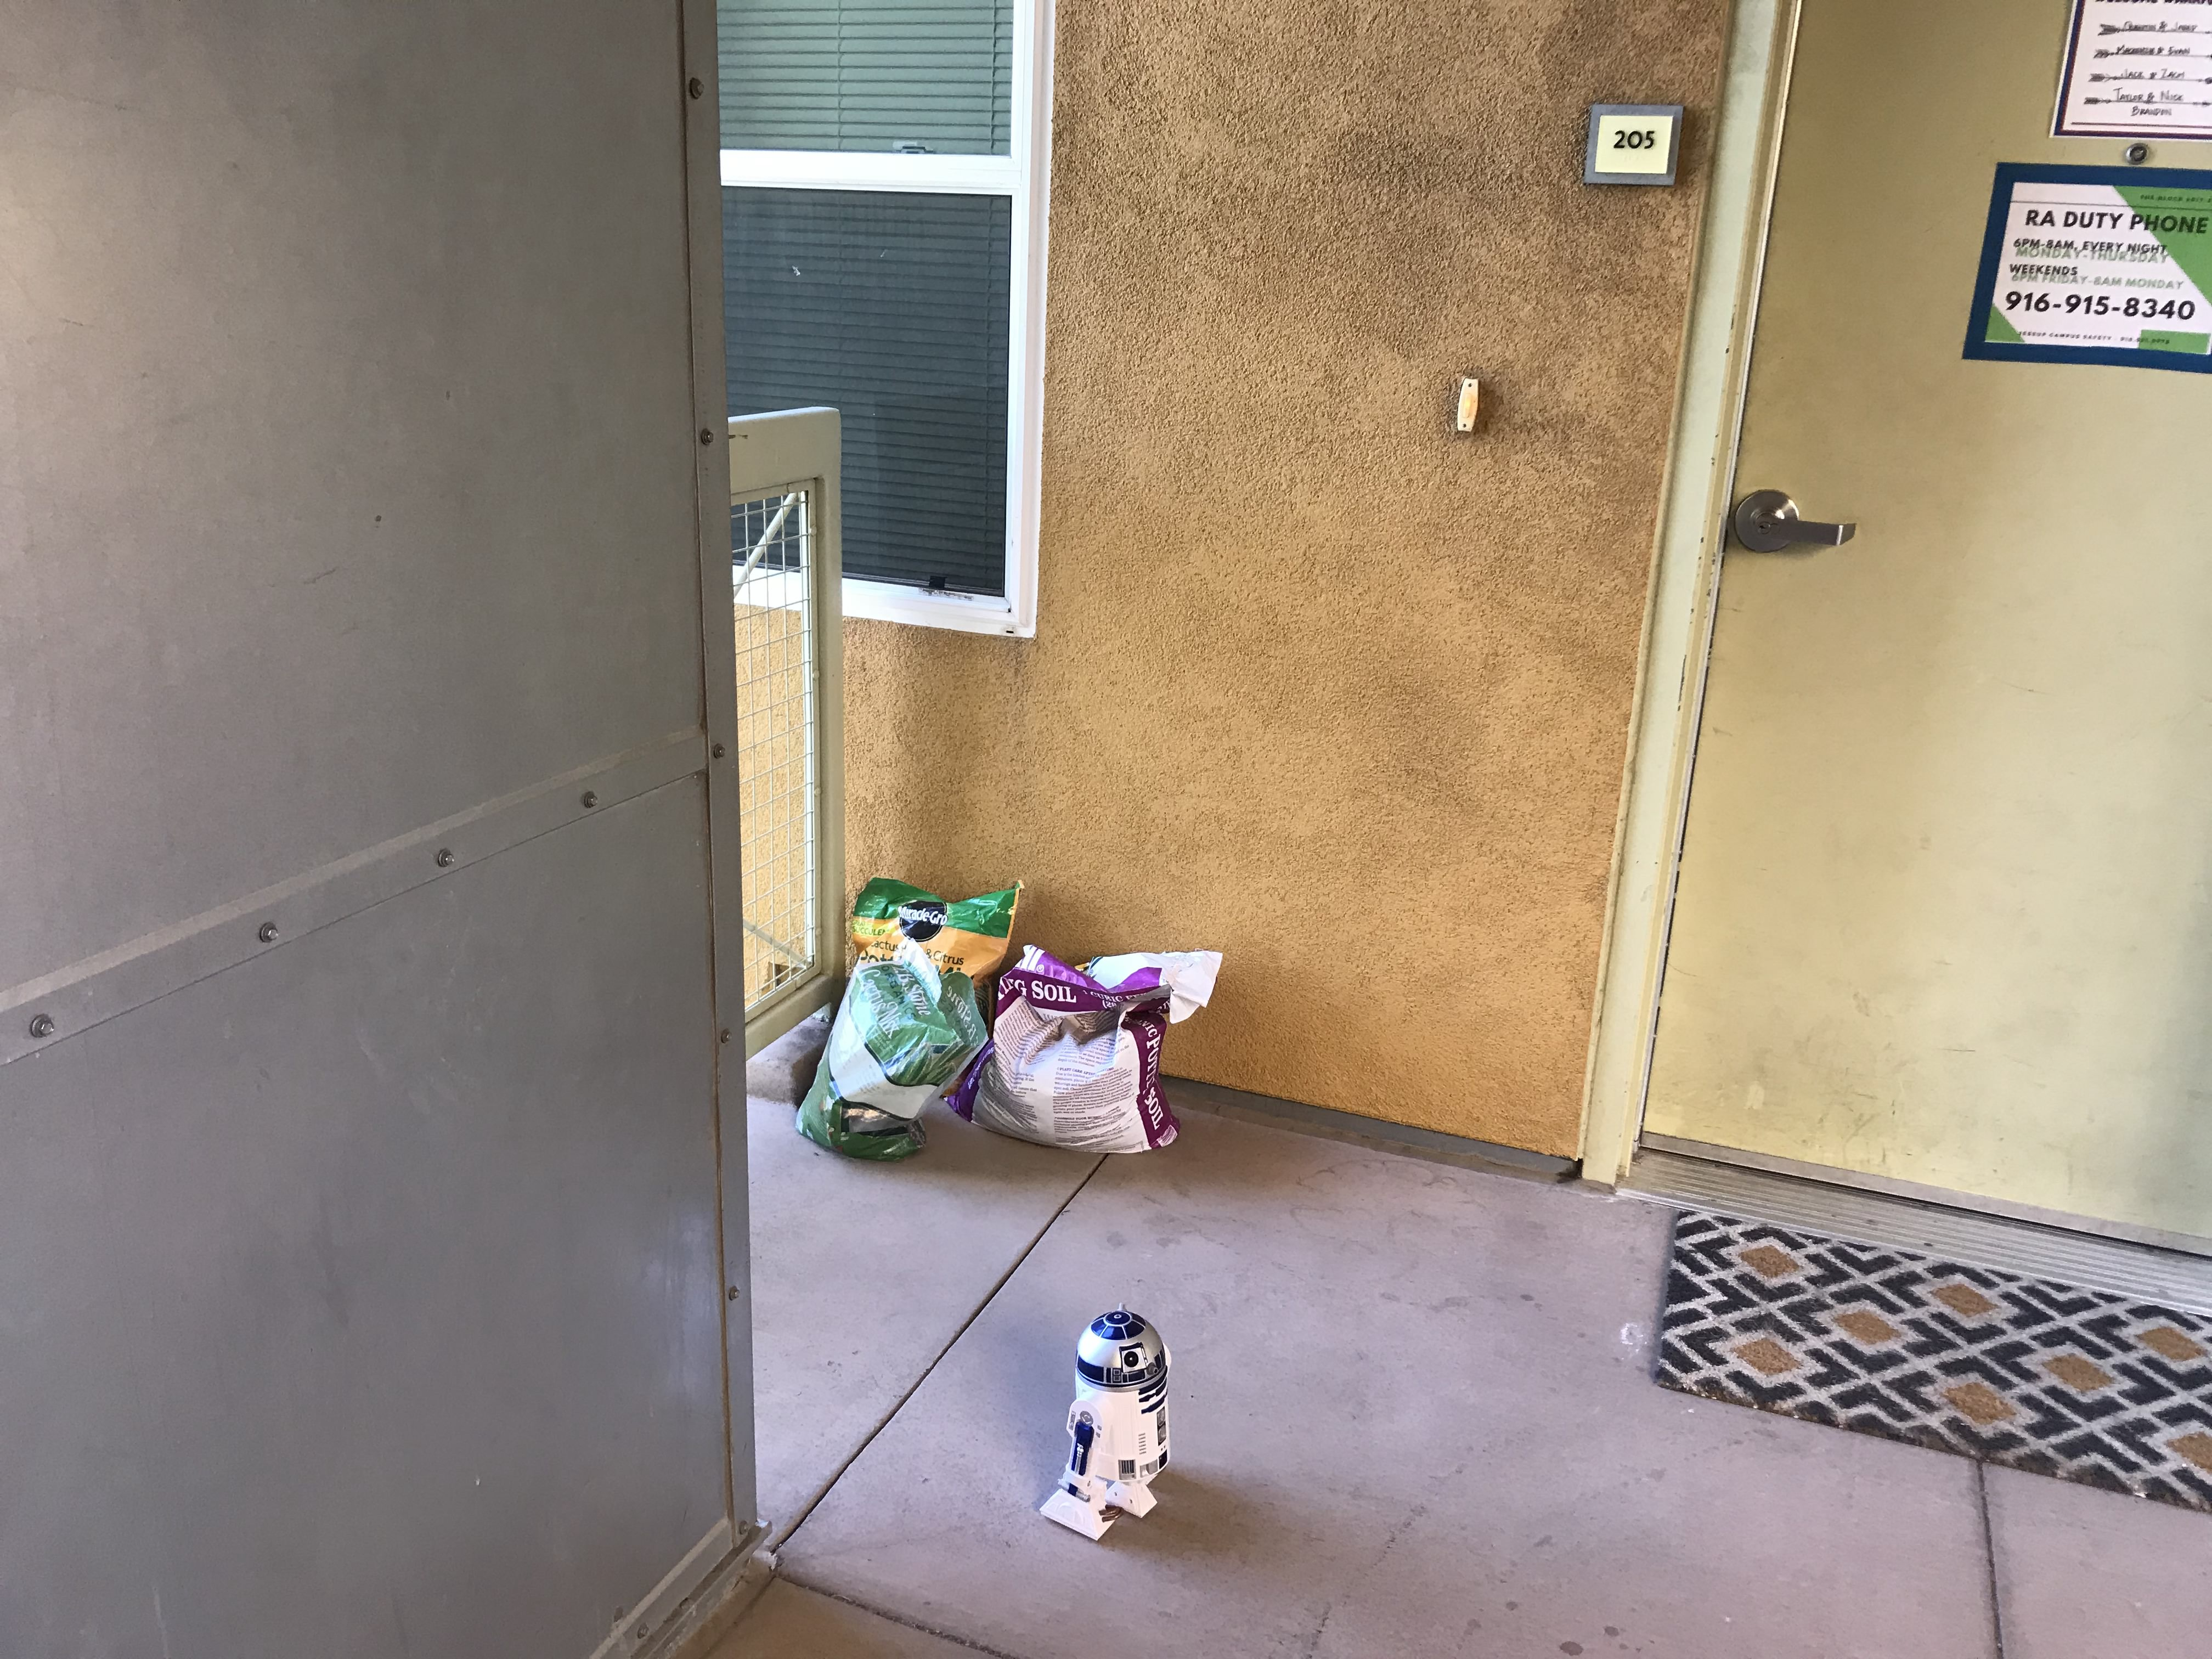r2d2: (1038, 1304, 1172, 1539)
